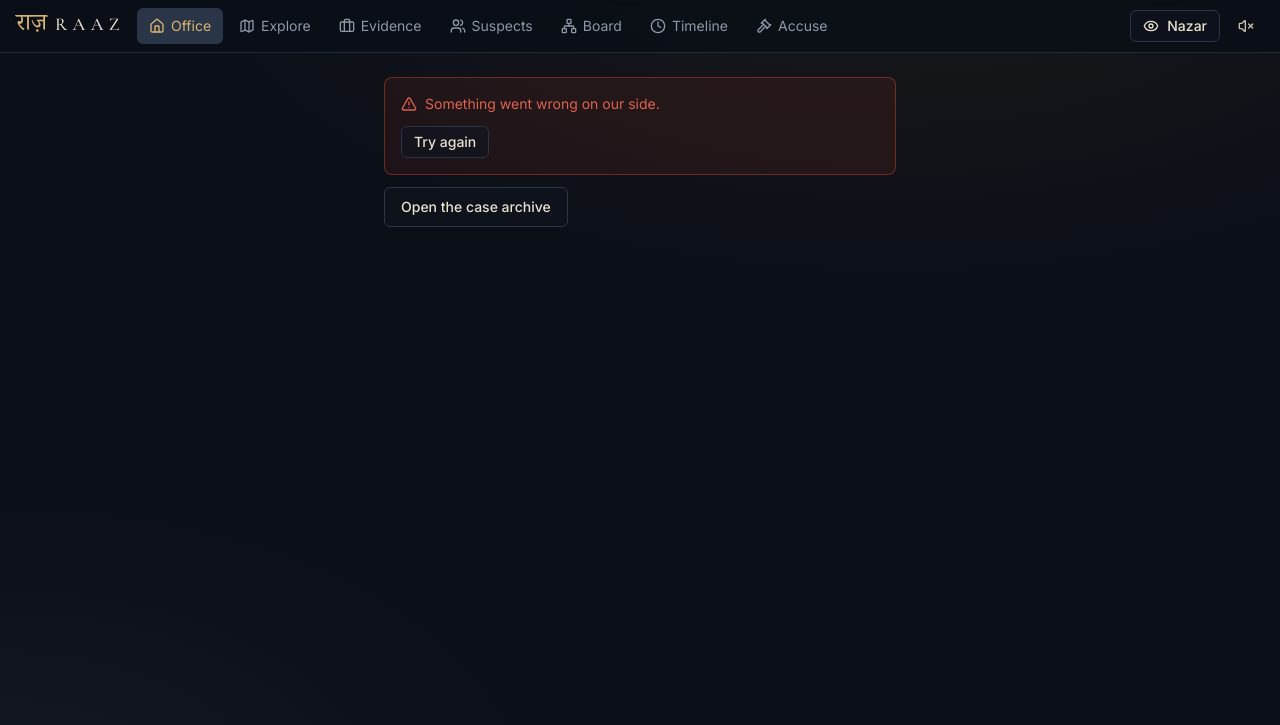
Scenario: navigation › shows a loading skeleton and then recovers from a server error
The width and height of the screenshot is (1280, 725).
expect the message shows "Something went wrong on our side.": met, box [425,95,660,112]
Click the button "Try again": click(445, 142) [401,126,489,158]
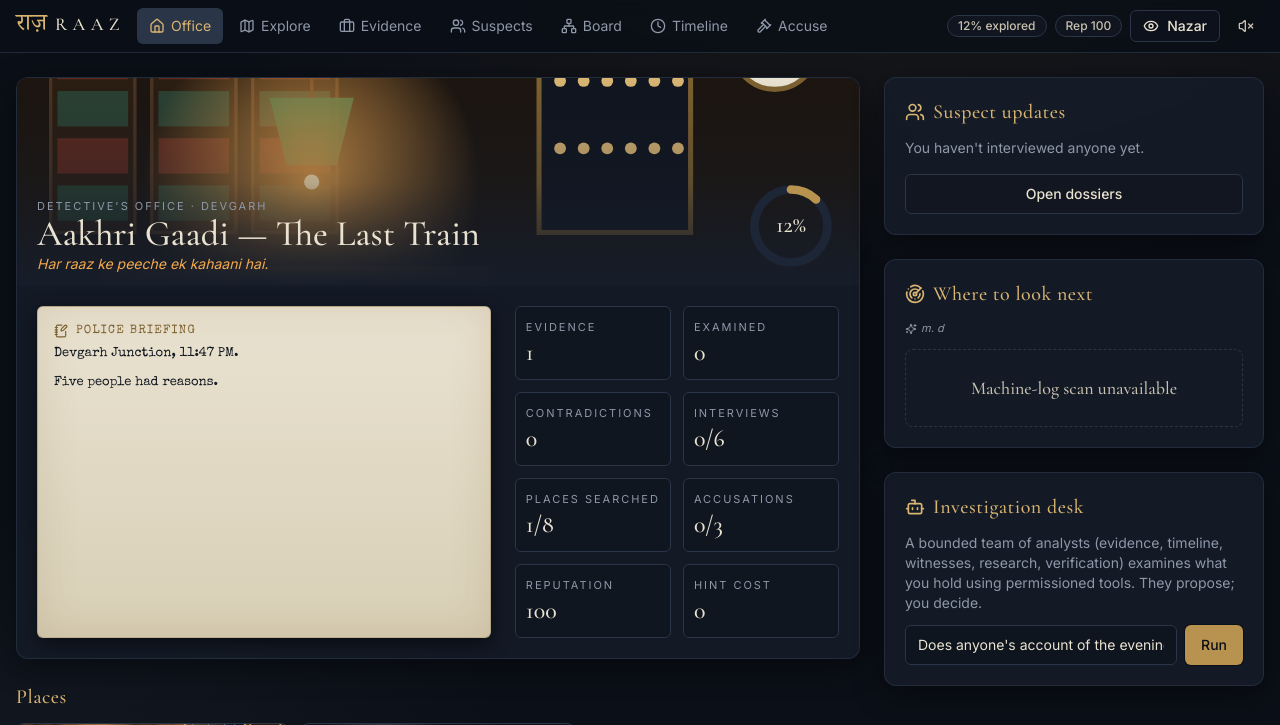
expect the heading "Aakhri Gaadi — The Last Train" is shown: met, box [37,214,480,254]
